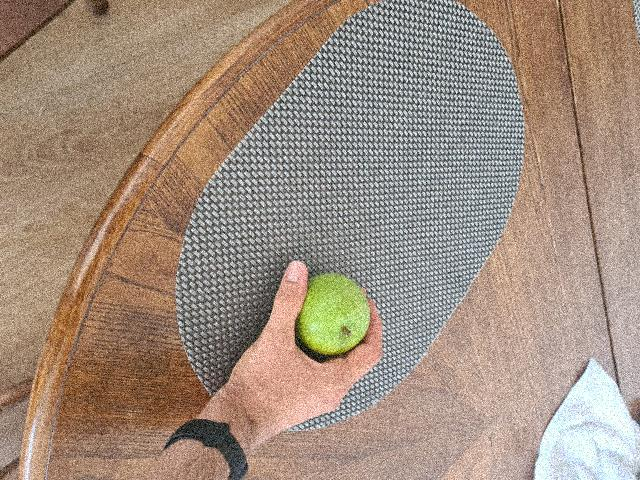apple: (295, 271, 374, 351)
